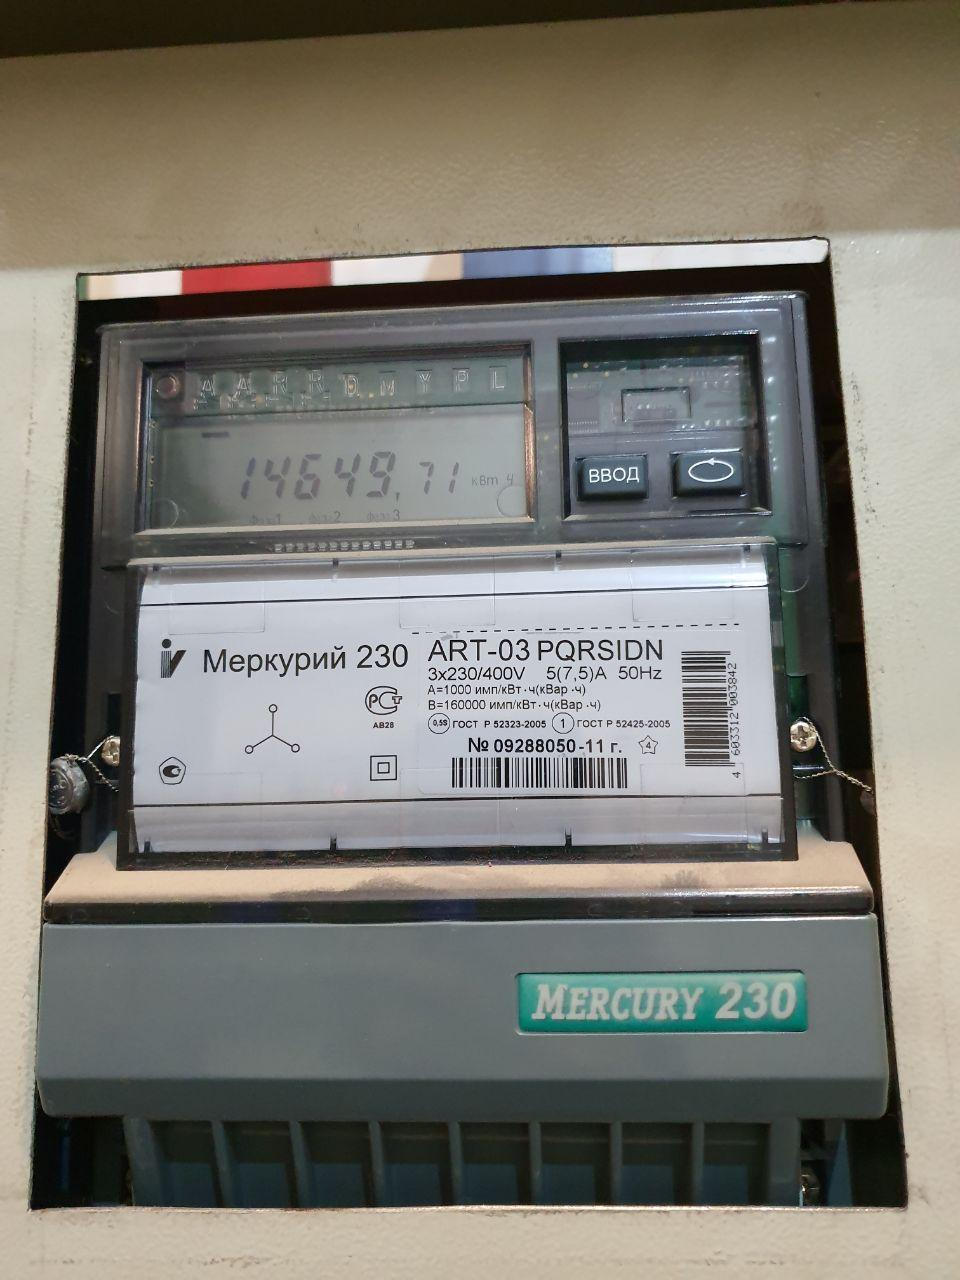counter: (40, 280, 898, 1206)
counter_screen: (151, 398, 542, 533)
